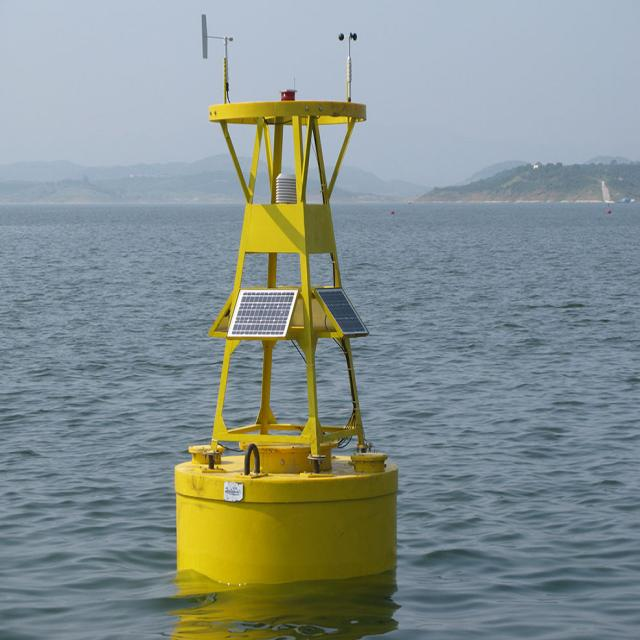buoy: (170, 22, 400, 583)
